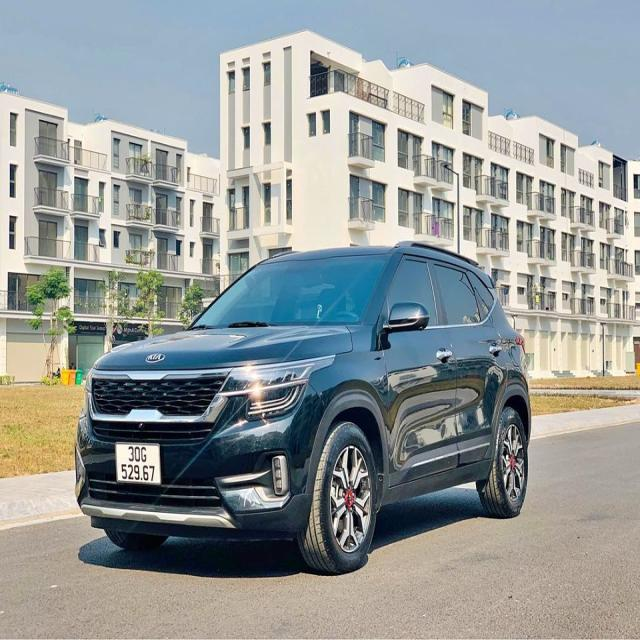car: (72, 241, 550, 583)
plate: (111, 438, 166, 487)
